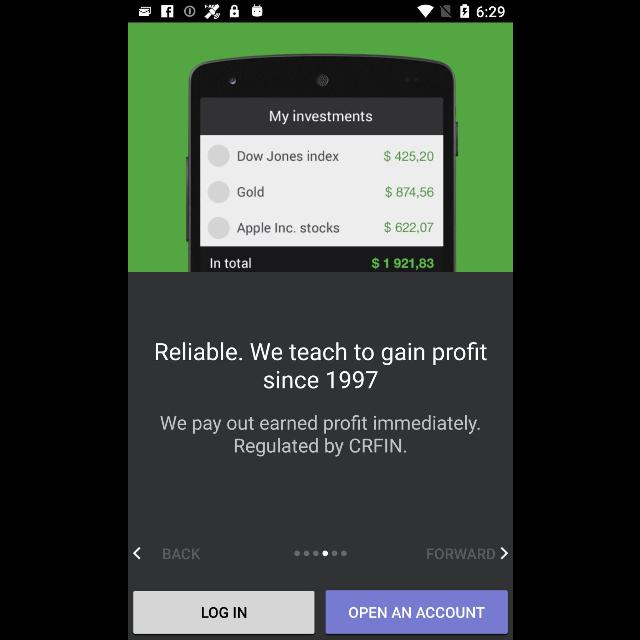icon: (500, 546, 508, 560), (132, 546, 140, 560)
image: (185, 52, 458, 272)
pageindicator: (294, 550, 346, 556)
text: (155, 341, 487, 389), (159, 415, 479, 457), (426, 548, 494, 560), (162, 548, 200, 560)
textbutton: (325, 590, 507, 634), (132, 590, 314, 634)
uppertaskbar: (128, 1, 512, 23)
